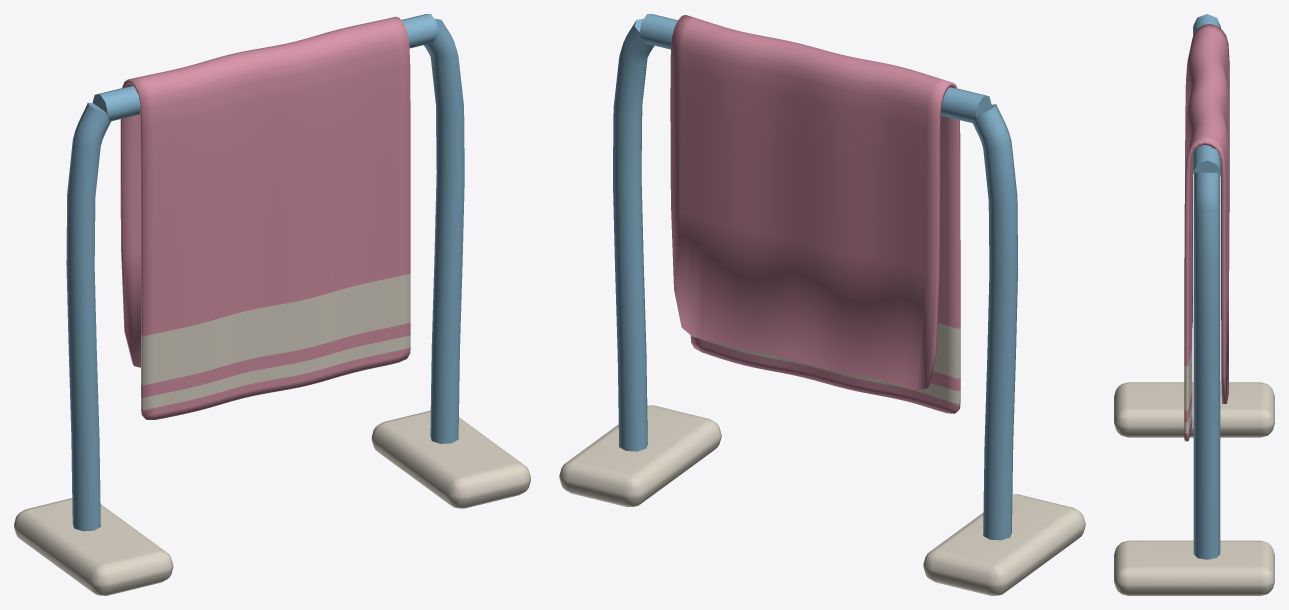
The model's file is lm_towel_rail.glb.
3 views of the same model, side by side, from view 1: azimuth 30°, elevation 25°; view 2: azimuth 150°, elevation 25°; view 3: azimuth 270°, elevation 25° (orthographic). The views are drawn at different scales.
Parts seen in each view (by area): view 1: prop; view 2: prop; view 3: prop.
Boxes of the visible parts, x1,y1,x2,y2 form: prop: (14, 14, 530, 595); prop: (559, 14, 1085, 595); prop: (1114, 14, 1274, 595).
Size of the model in its own units: 0.295 by 0.2979 by 0.103.
